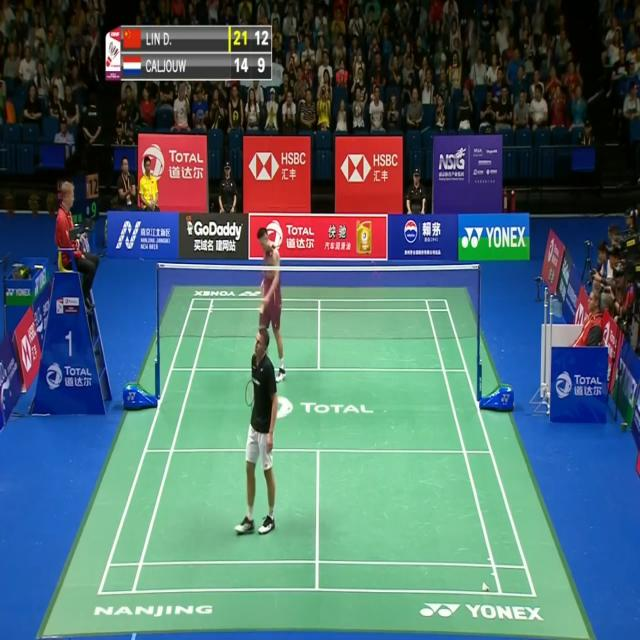Player1: (234, 324, 282, 538)
Player2: (251, 224, 291, 388)
